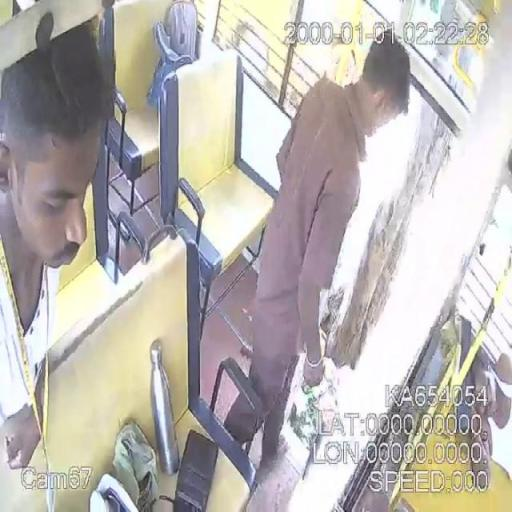persona: (224, 26, 412, 473), (1, 8, 114, 510), (1, 8, 113, 474)
